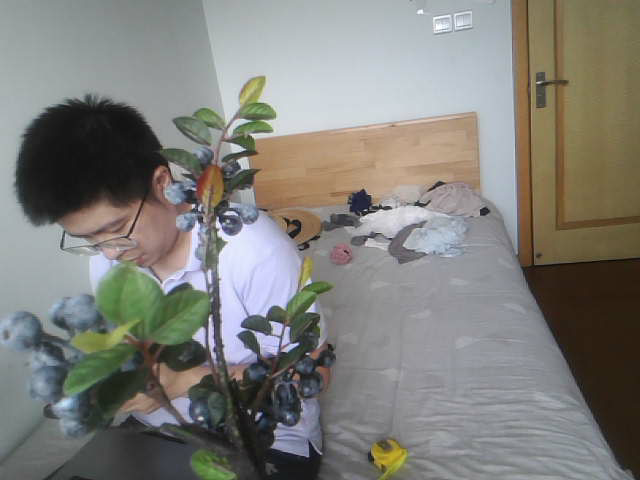blueberry: (59, 295, 100, 324), (5, 313, 38, 347), (29, 369, 68, 396), (217, 203, 246, 232), (186, 399, 215, 423), (54, 401, 86, 419), (301, 372, 328, 391), (176, 210, 197, 234), (236, 365, 263, 383), (277, 408, 301, 428), (60, 422, 86, 436), (274, 381, 294, 398), (194, 146, 209, 167), (164, 176, 174, 204), (246, 205, 262, 221), (317, 351, 331, 369), (297, 358, 308, 368)
